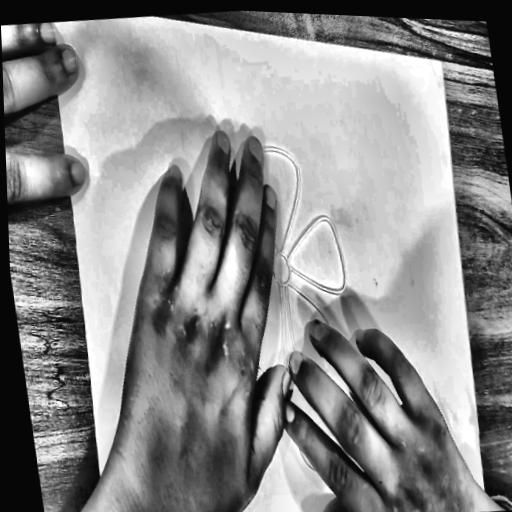flower: (187, 107, 372, 504)
top_right: (435, 52, 447, 70)
